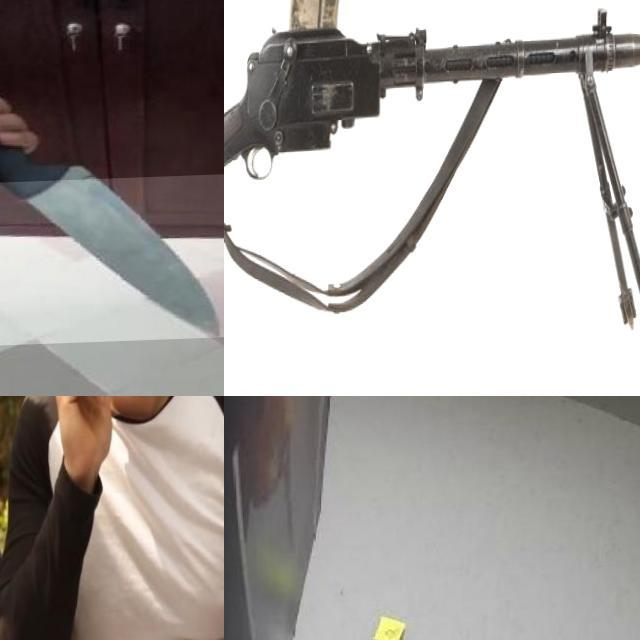-: (0, 177, 224, 347), (0, 493, 58, 598)
gun-knife-thesis - v11 Yolov5 augmented: (224, 0, 640, 396)
